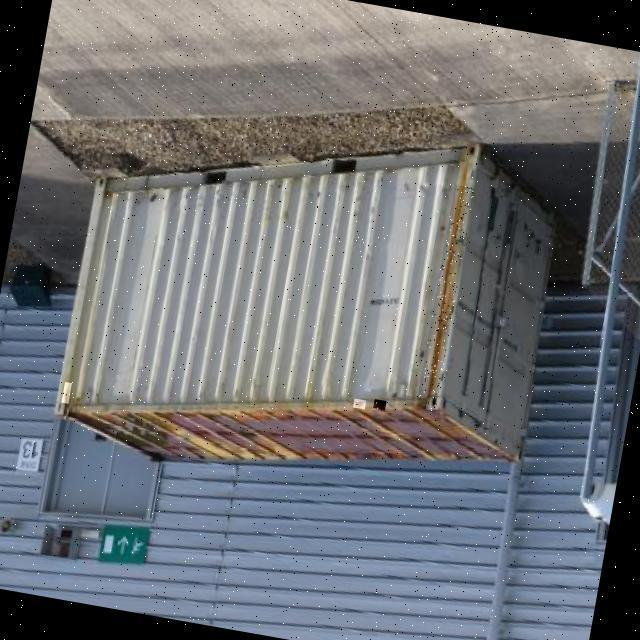Rust: (416, 185, 475, 410), (61, 382, 72, 404), (350, 398, 365, 409), (371, 399, 386, 410)
